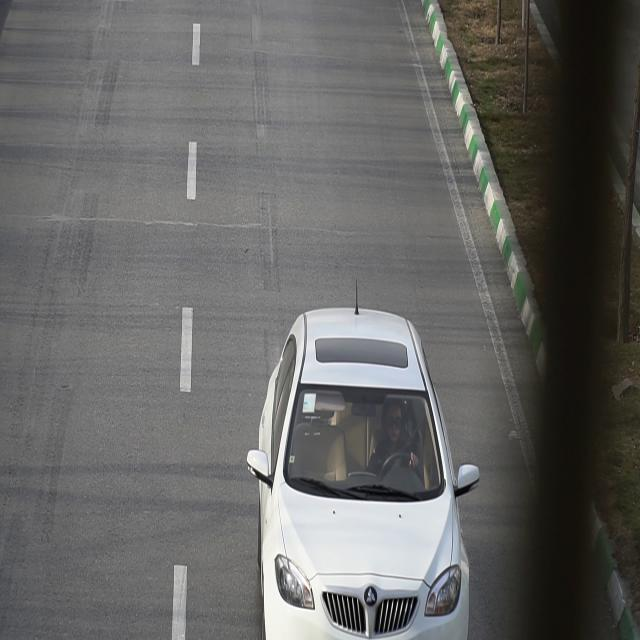car: (247, 297, 481, 640)
